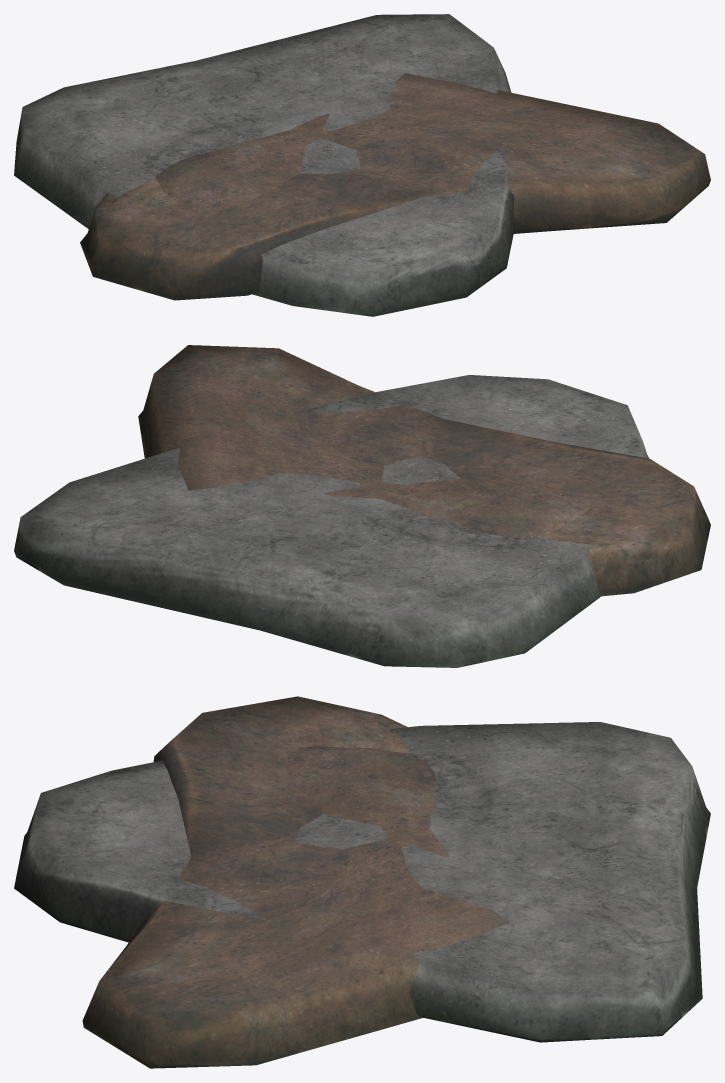
File: CaminhoPedraSet.fbx
The picture shows the model from 3 angles, top to bottom: view 1: azimuth 30°, elevation 25°; view 2: azimuth 150°, elevation 25°; view 3: azimuth 270°, elevation 25°; orthographic projection. The views are drawn at different scales.
Parts seen in each view (by area): view 1: CaminhoPedra01, CaminhoPedra04, CaminhoPedra03; view 2: CaminhoPedra01, CaminhoPedra04, CaminhoPedra03; view 3: CaminhoPedra01, CaminhoPedra04, CaminhoPedra03.
Boxes of the visible parts, x1=… form: CaminhoPedra01: x1=14, y1=14, x2=513, y2=316; CaminhoPedra04: x1=80, y1=73, x2=710, y2=300; CaminhoPedra03: x1=155, y1=113, x2=331, y2=211; CaminhoPedra01: x1=14, y1=375, x2=648, y2=667; CaminhoPedra04: x1=138, y1=345, x2=710, y2=596; CaminhoPedra03: x1=323, y1=478, x2=591, y2=538; CaminhoPedra01: x1=14, y1=722, x2=710, y2=1042; CaminhoPedra04: x1=82, y1=696, x2=510, y2=1068; CaminhoPedra03: x1=286, y1=746, x2=449, y2=857.
Bounding box in the file's own units: 184 × 15.66 × 163.
1 material, 1 textured.
